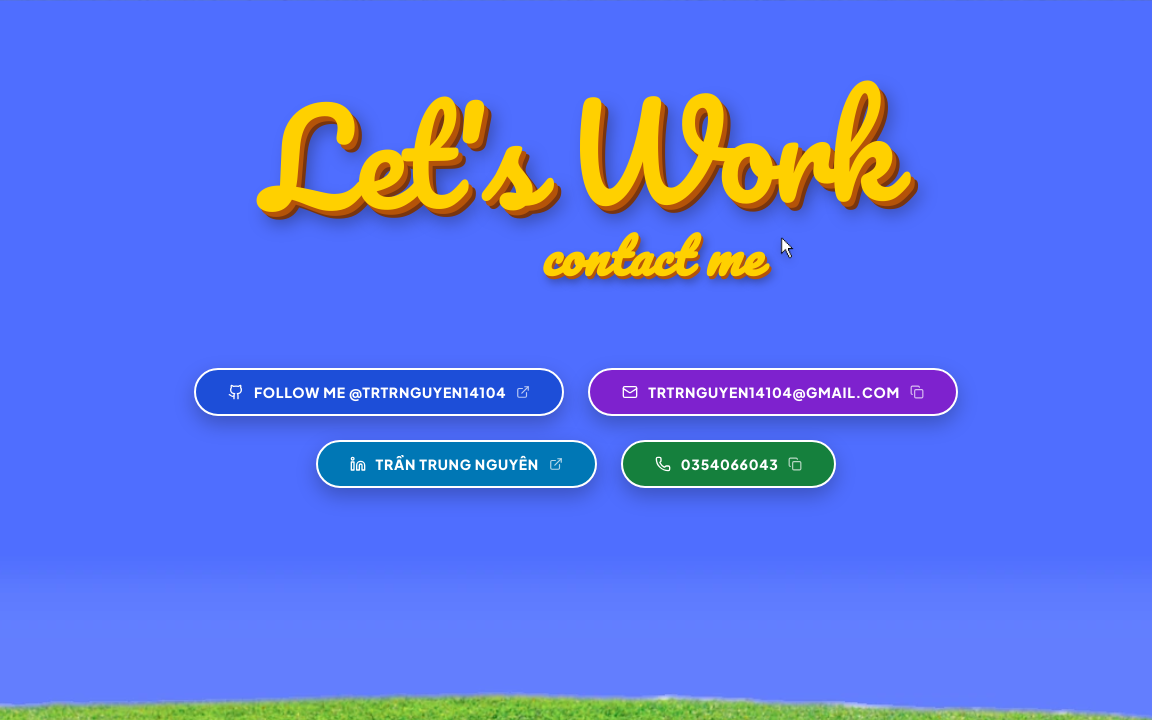
it: ContactContent Component › copies email address to clipboard and shows toast notification when email pill is clicked
Click the button with aria-label "copy email": click(773, 392) top-left (588, 368), bottom-right (958, 416)
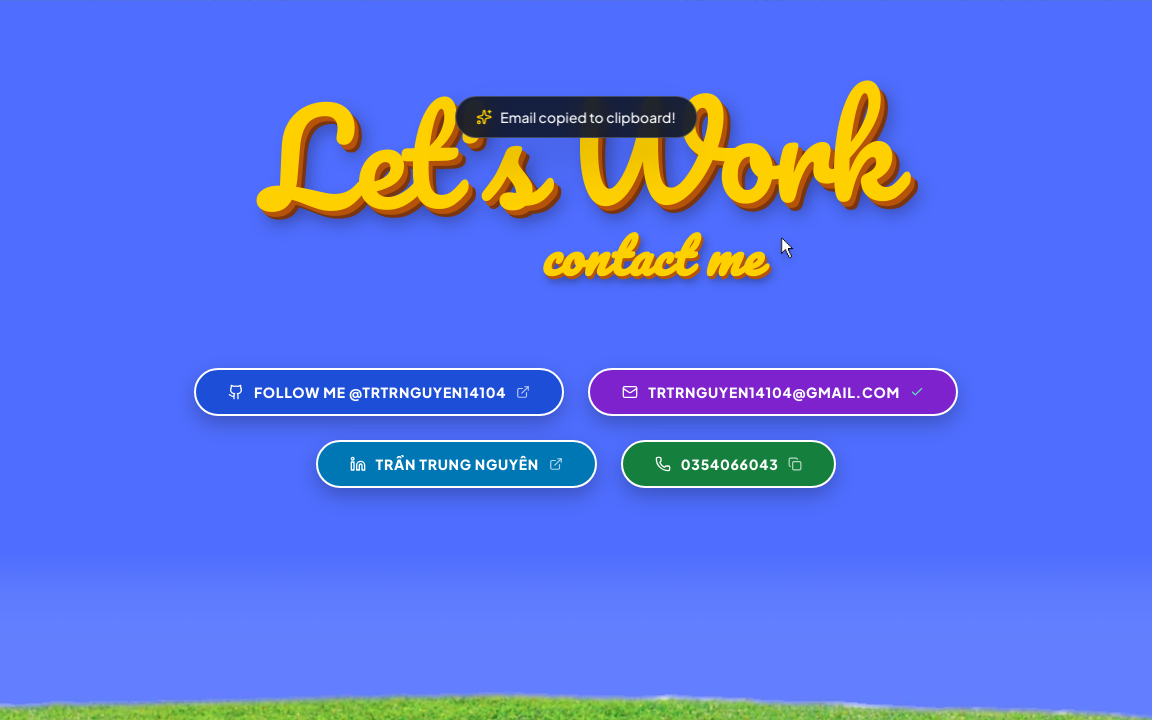
Check: the text "Email copied to clipboard!" is shown, box top-left (500, 107), bottom-right (676, 127)
